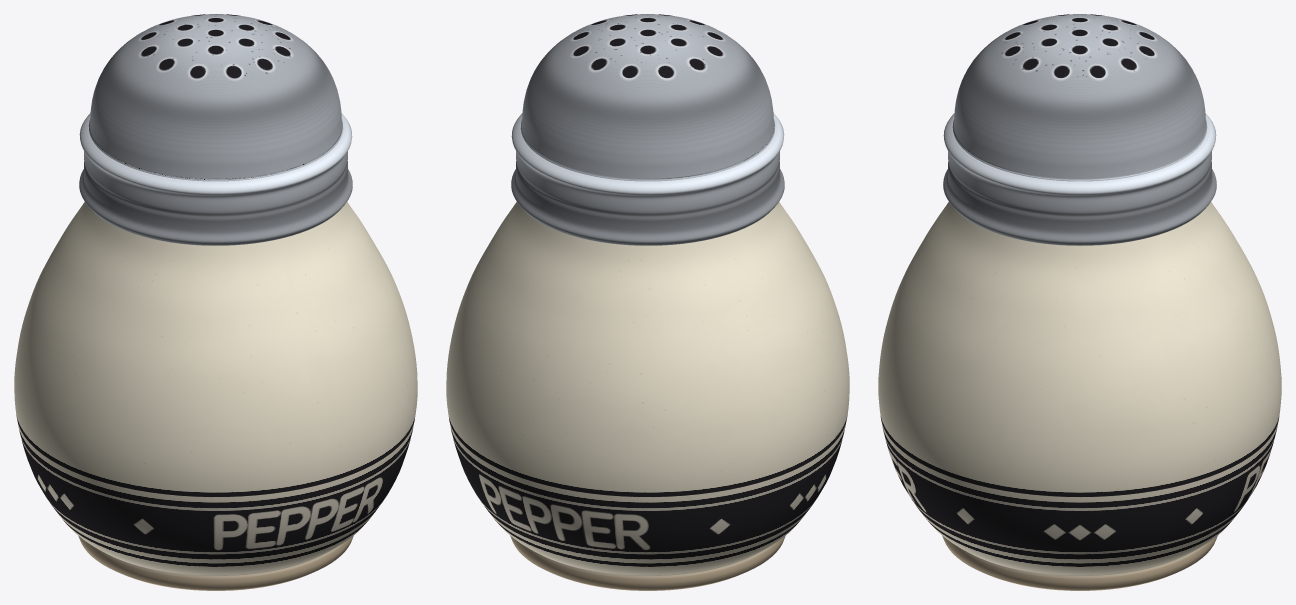
The model's file is pepper.glb.
3 renders of one model, left to right at view 1: azimuth 30°, elevation 25°; view 2: azimuth 150°, elevation 25°; view 3: azimuth 270°, elevation 25°, orthographic.
Visible parts, largest first — view 1: pepper; view 2: pepper; view 3: pepper.
Boxes of the visible parts, left/top/right/bottom form: pepper: left=14, top=14, right=417, bottom=590; pepper: left=446, top=14, right=849, bottom=590; pepper: left=878, top=14, right=1281, bottom=590.
Bounding box in the file's own units: 0.663 × 0.912 × 0.663.
2 materials, 2 textured.
